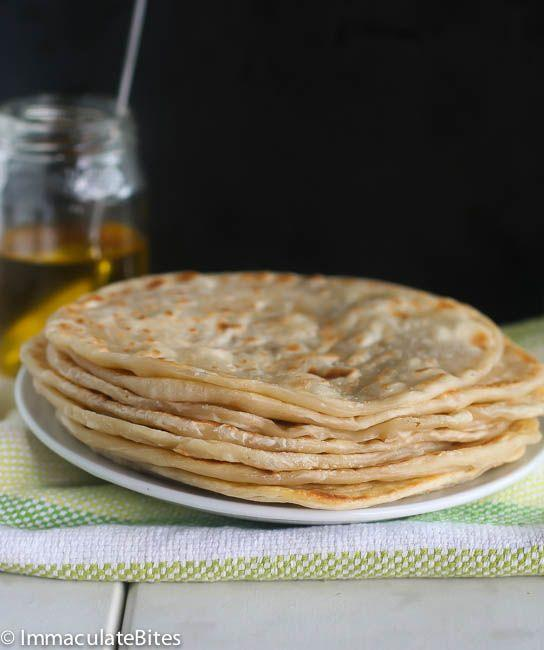roti: (23, 271, 544, 510)
